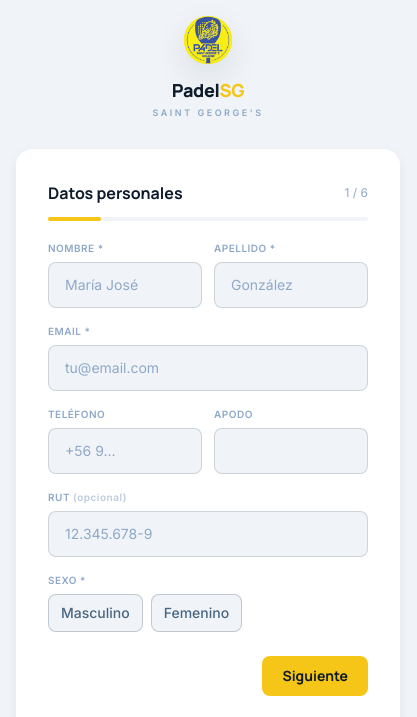
Test: shows validation error when name is empty
Click the button "Siguiente" at {"x": 315, "y": 676}, box [262,656,368,696]
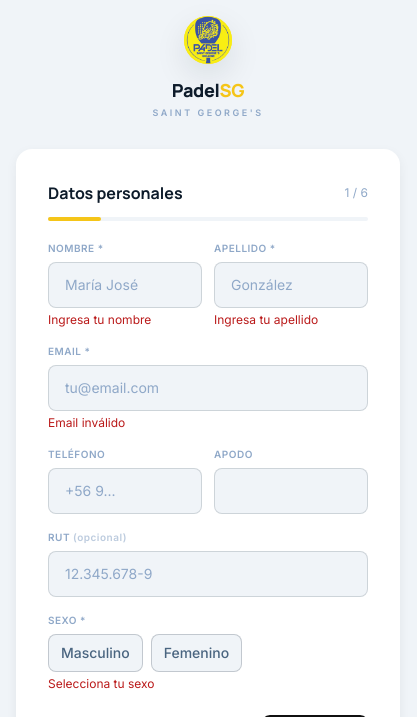
Result: the text "Ingresa tu nombre" is shown at [48,312,151,327]
